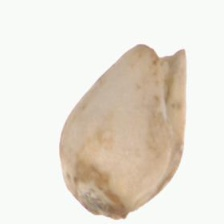L1: (137, 38, 187, 98), (68, 179, 129, 219)
L2: (58, 43, 187, 221)
